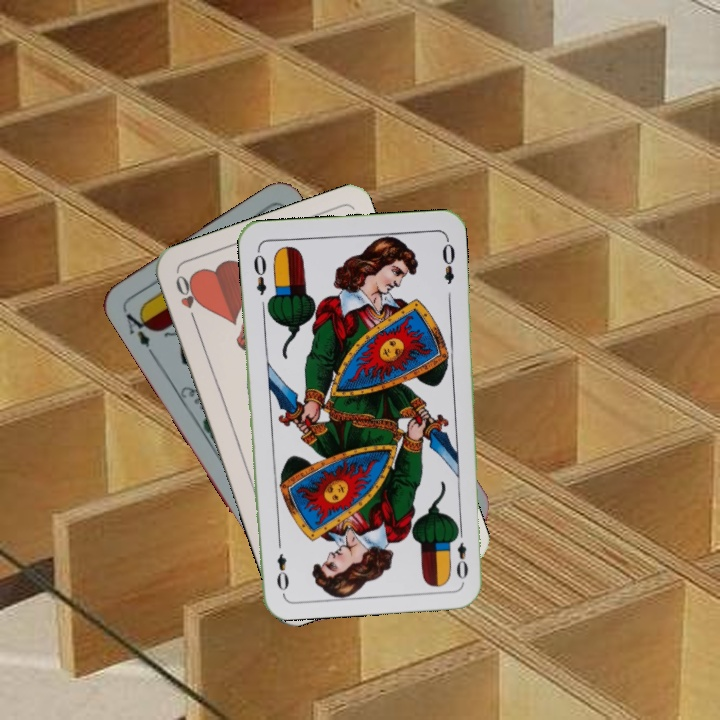EA: (122, 305, 157, 358)
EO: (449, 524, 471, 582), (250, 245, 269, 298)
HO: (171, 271, 202, 327)
